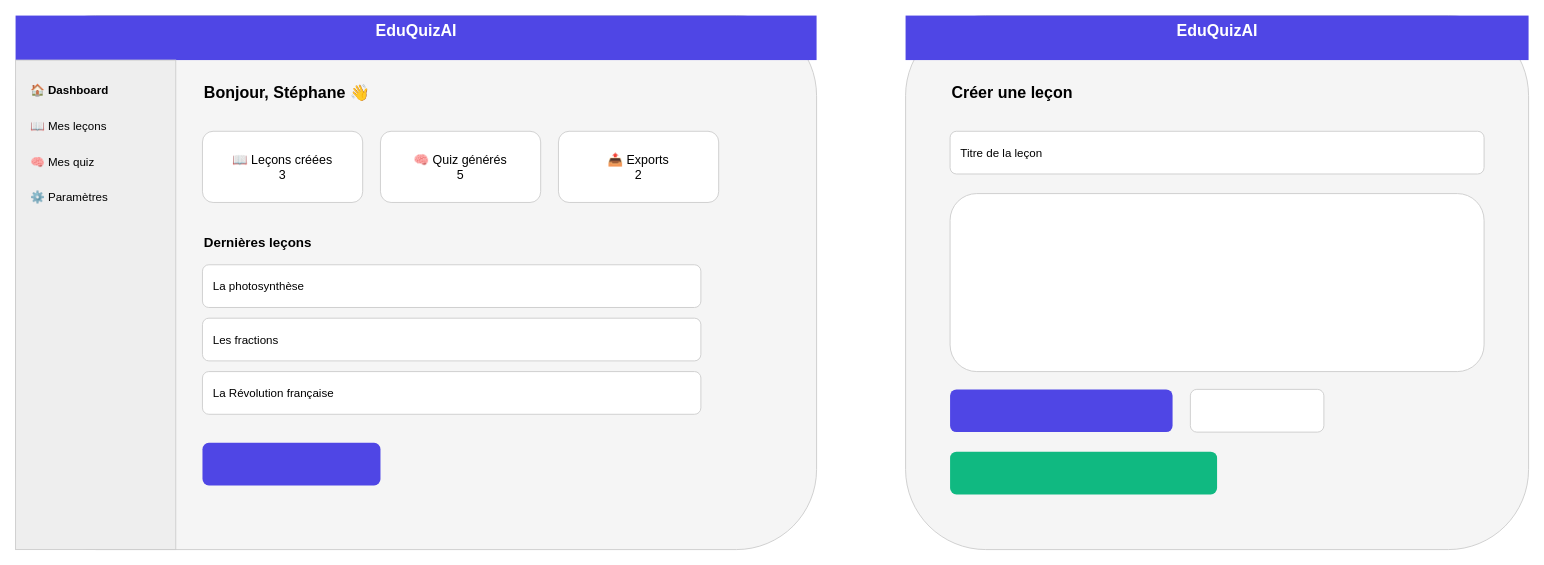
Some shapes in this 1544 by 565 pixel diagram are drawn without their labels. Each missing label, with the box of its shape:
+ Nouvelle leçon: (202, 442, 380, 485)
Annuler: (1189, 388, 1324, 432)
Contenu de la leçon (texte, cours...): (949, 193, 1484, 372)
Générer un quiz depuis cette leçon: (950, 451, 1217, 494)
Sauvegarder la leçon: (950, 389, 1172, 432)
